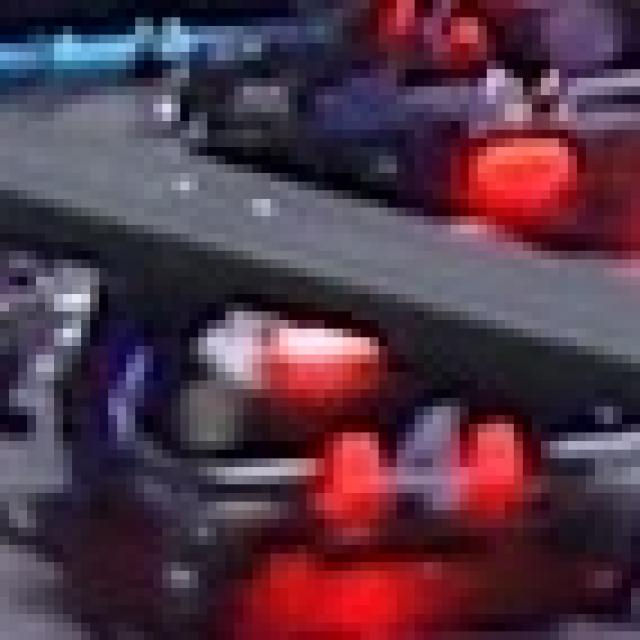R4: (324, 389, 532, 519)
